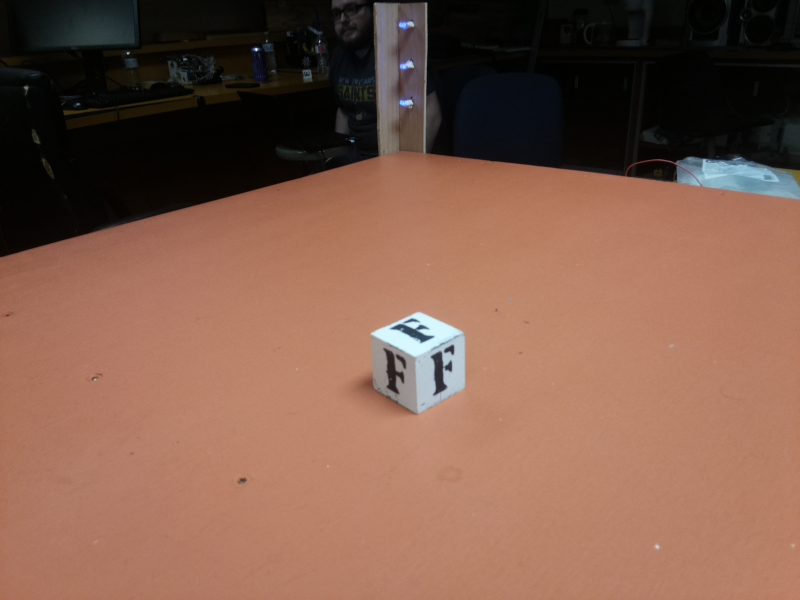blockF: (367, 308, 466, 412)
corner: (375, 1, 427, 158)
